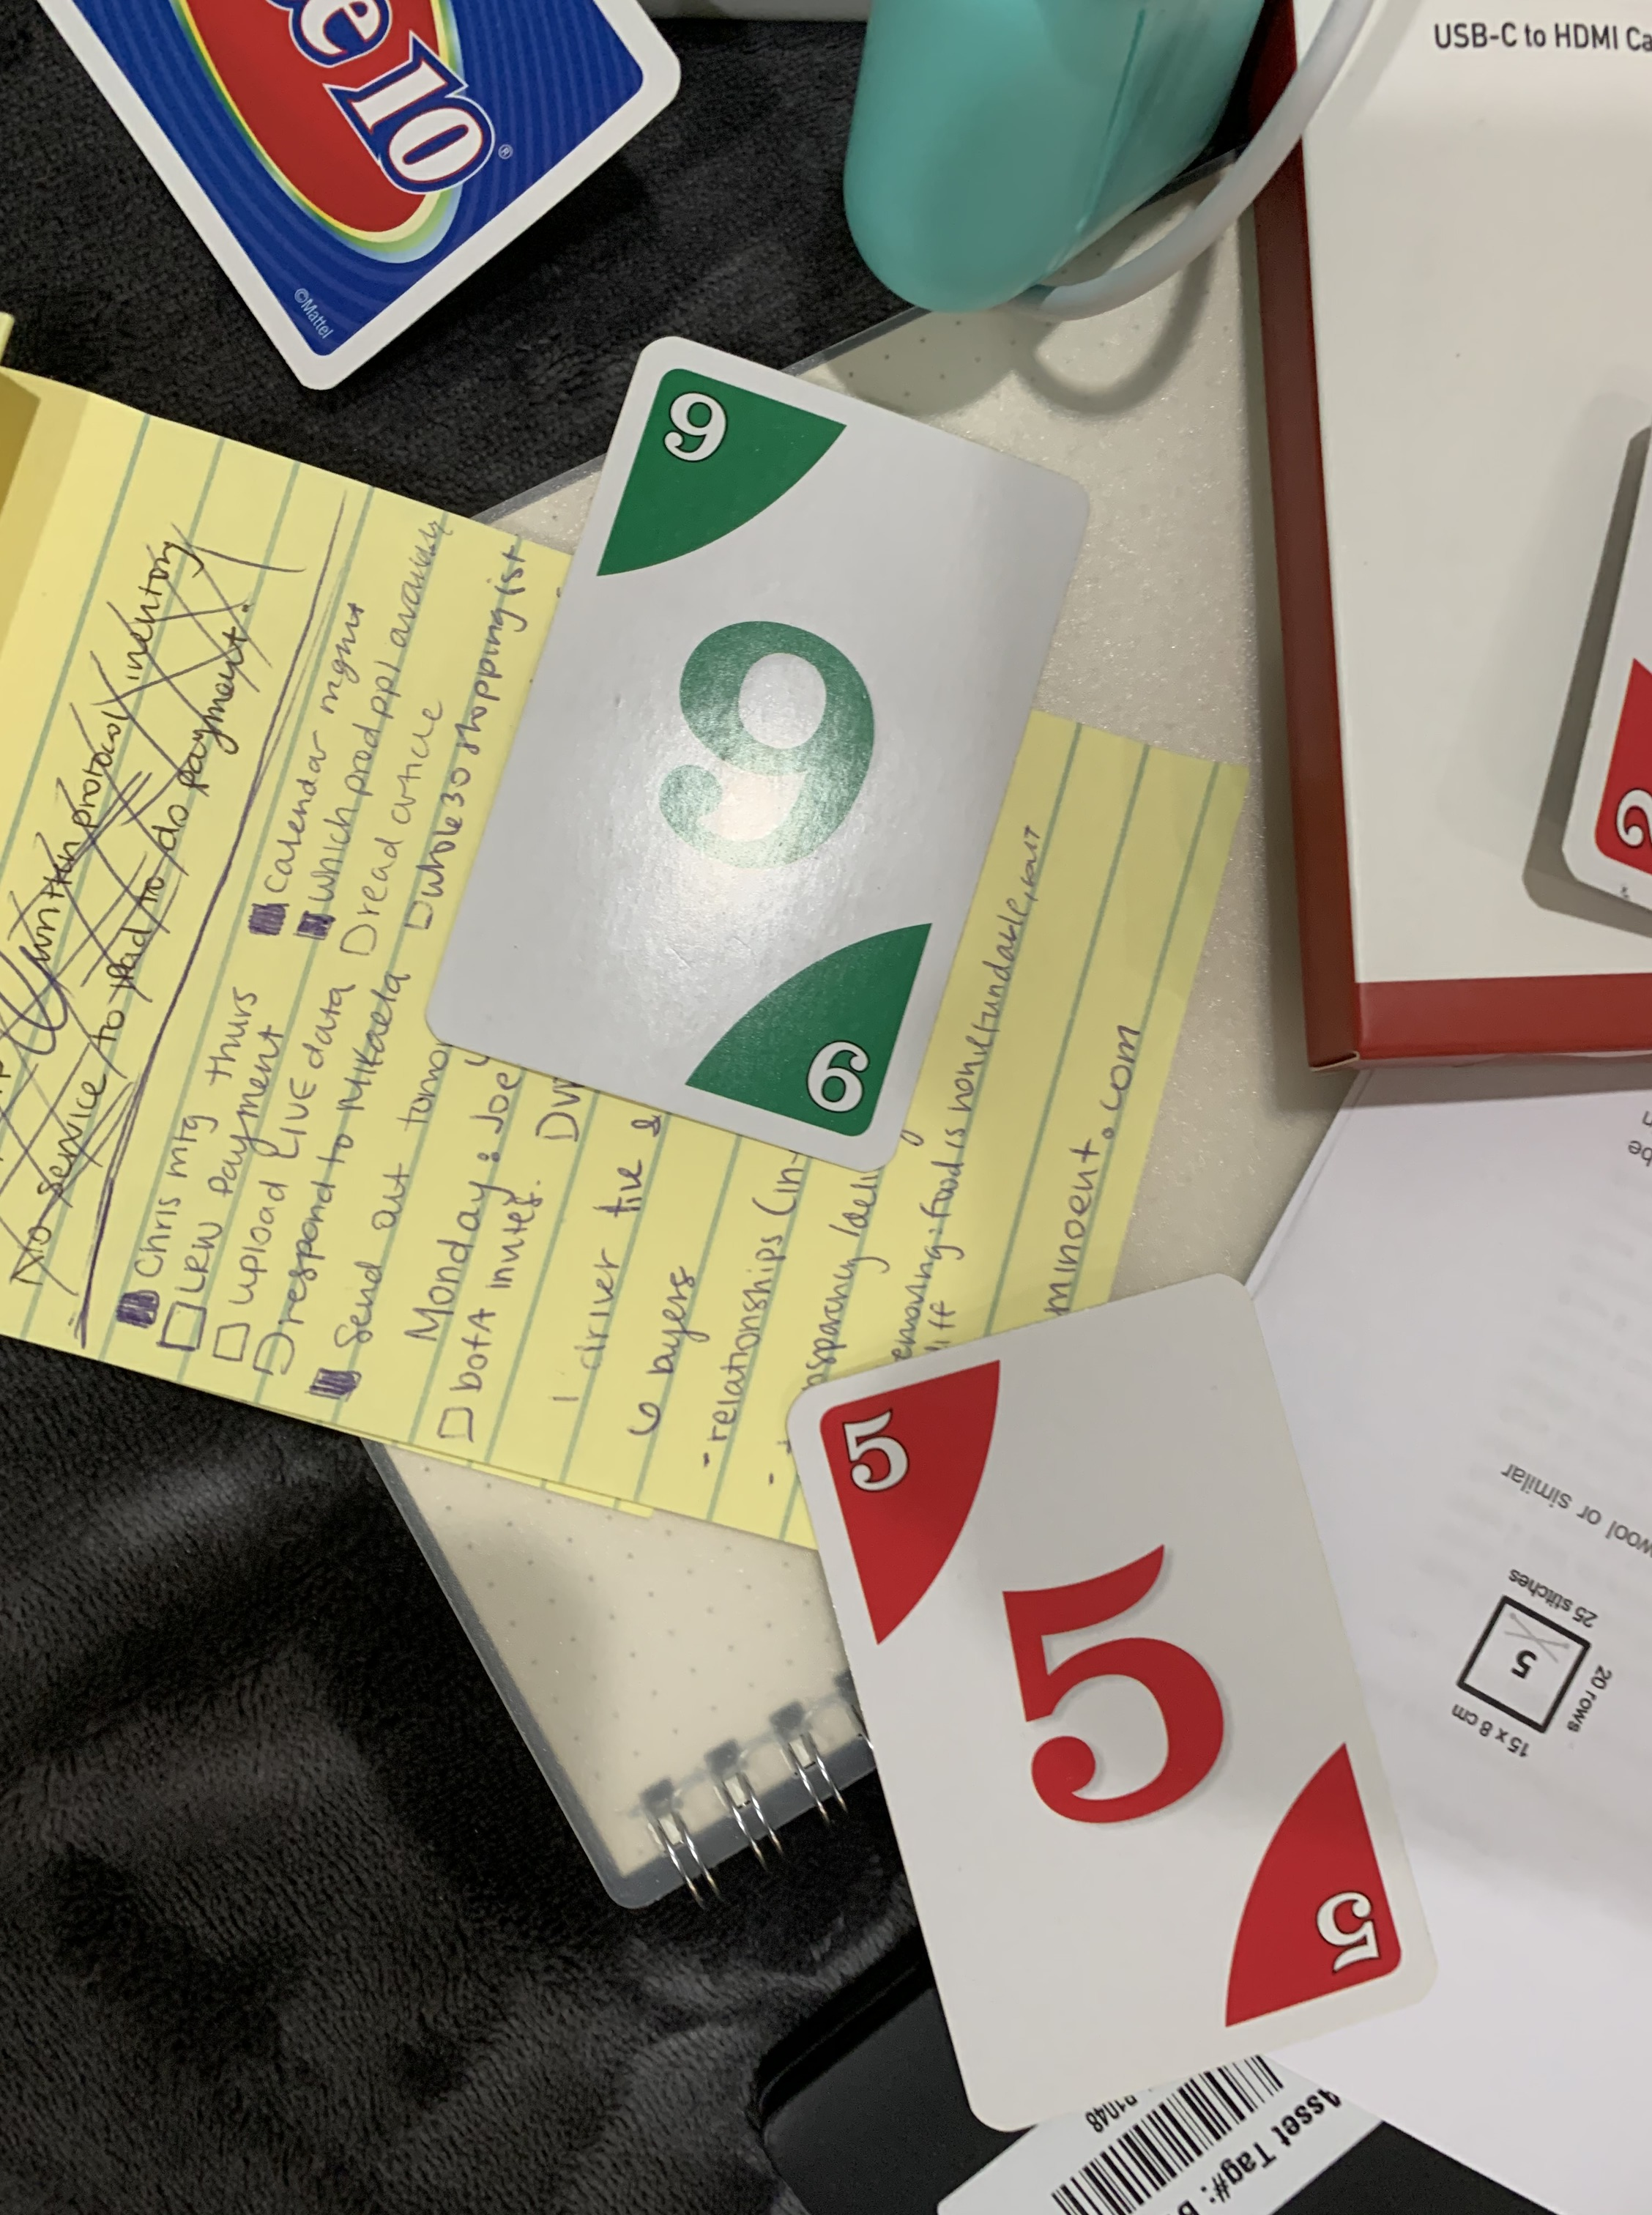five: (743, 1259, 1452, 2154)
nine: (437, 314, 1111, 1193)
